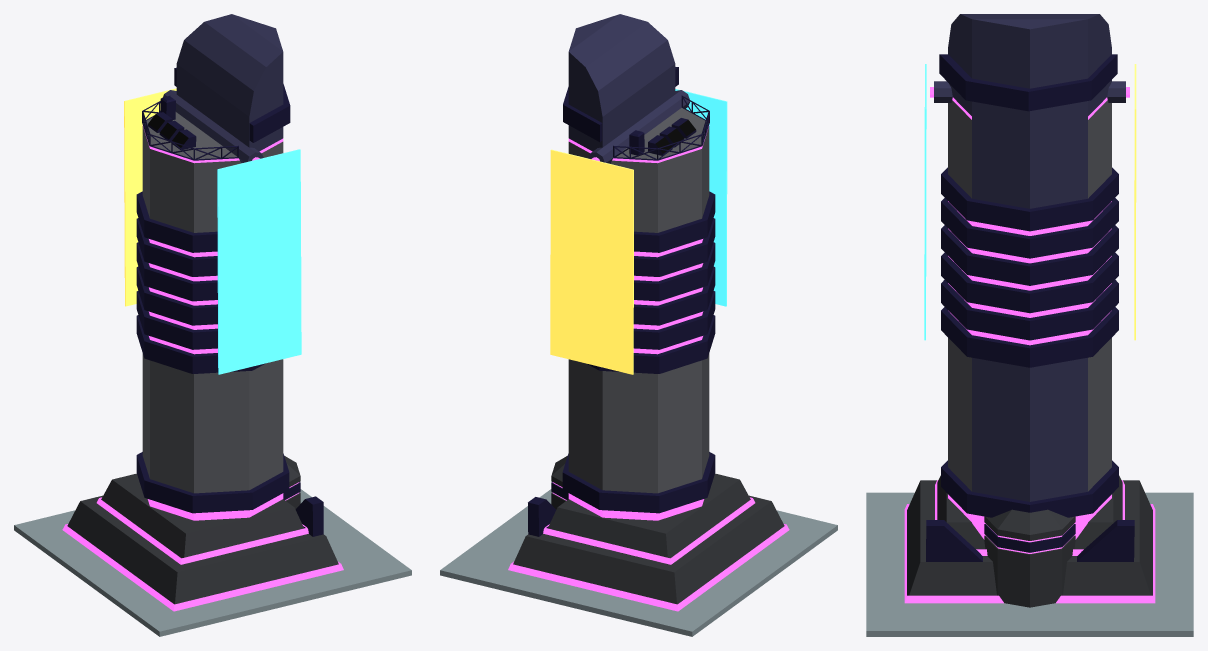
The model's file is CityHouse4.fbx.
3 renders of one model, left to right at view 1: azimuth 30°, elevation 25°; view 2: azimuth 150°, elevation 25°; view 3: azimuth 270°, elevation 25°, orthographic. The views are drawn at different scales.
Parts seen in each view (by area): view 1: Cube.506, Road.023; view 2: Cube.506, Road.023; view 3: Cube.506, Road.023.
Part boxes in pixels (left/top/right/bottom): Cube.506: left=62, top=14, right=343, bottom=611; Road.023: left=14, top=489, right=411, bottom=636; Cube.506: left=508, top=14, right=789, bottom=611; Road.023: left=440, top=489, right=837, bottom=636; Cube.506: left=904, top=14, right=1155, bottom=607; Road.023: left=866, top=492, right=1193, bottom=636.
Bounding box in the file's own units: 400 × 772 × 400.
